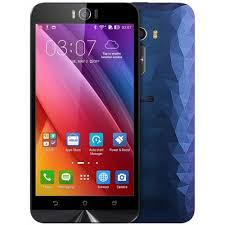asus: (24, 1, 142, 225), (124, 1, 199, 223)
